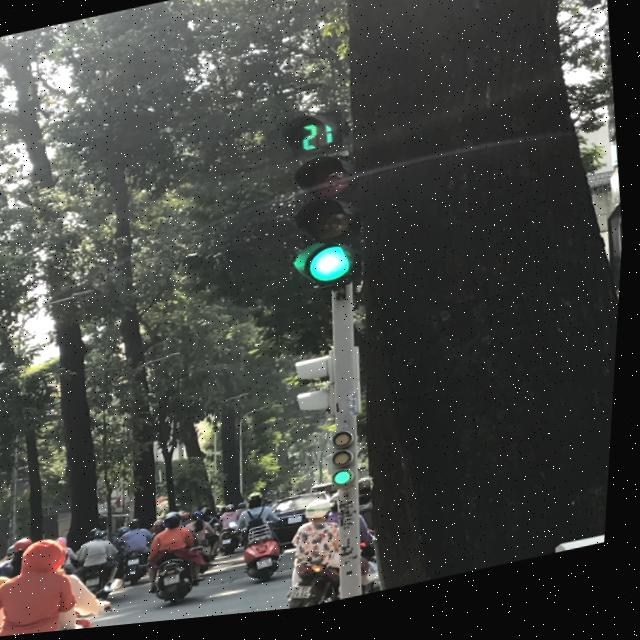Green: (280, 150, 382, 311), (321, 423, 372, 492)
